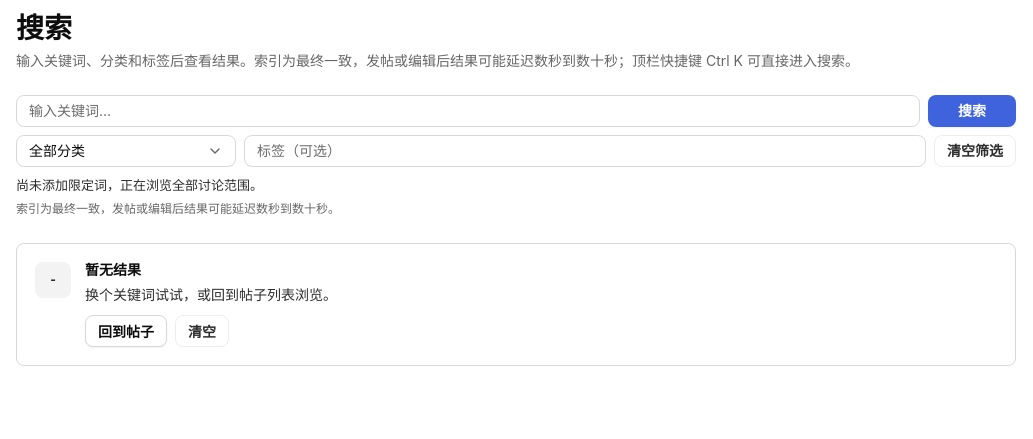
Test: SearchView › keeps the newest search result when an older request resolves later
Type "first" into the field named "search-keyword" at {"x": 468, "y": 111}, box x1=16 y1=95 x2=920 y2=127
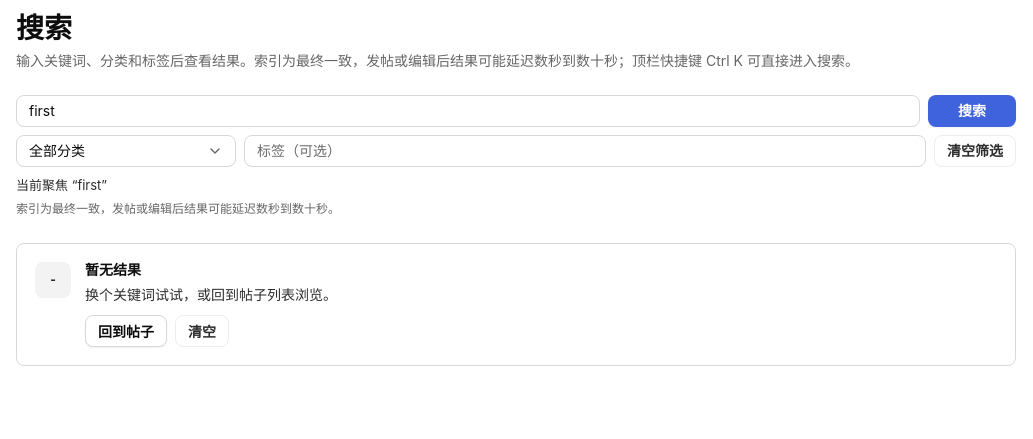
Replace the text in the field named "search-keyword" with "second" at {"x": 468, "y": 111}, box x1=16 y1=95 x2=920 y2=127
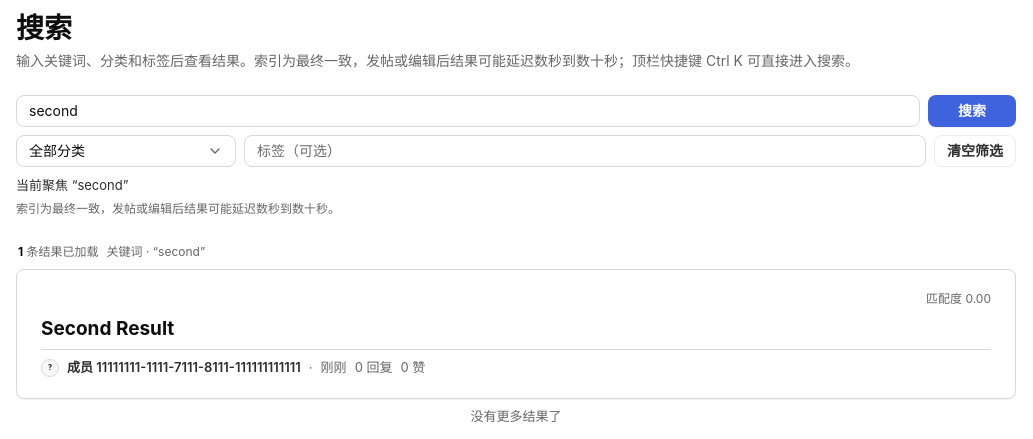
Now the text "Second Result" is shown, box x1=41 y1=317 x2=174 y2=340
